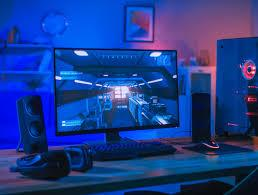monitor: (53, 47, 181, 137)
